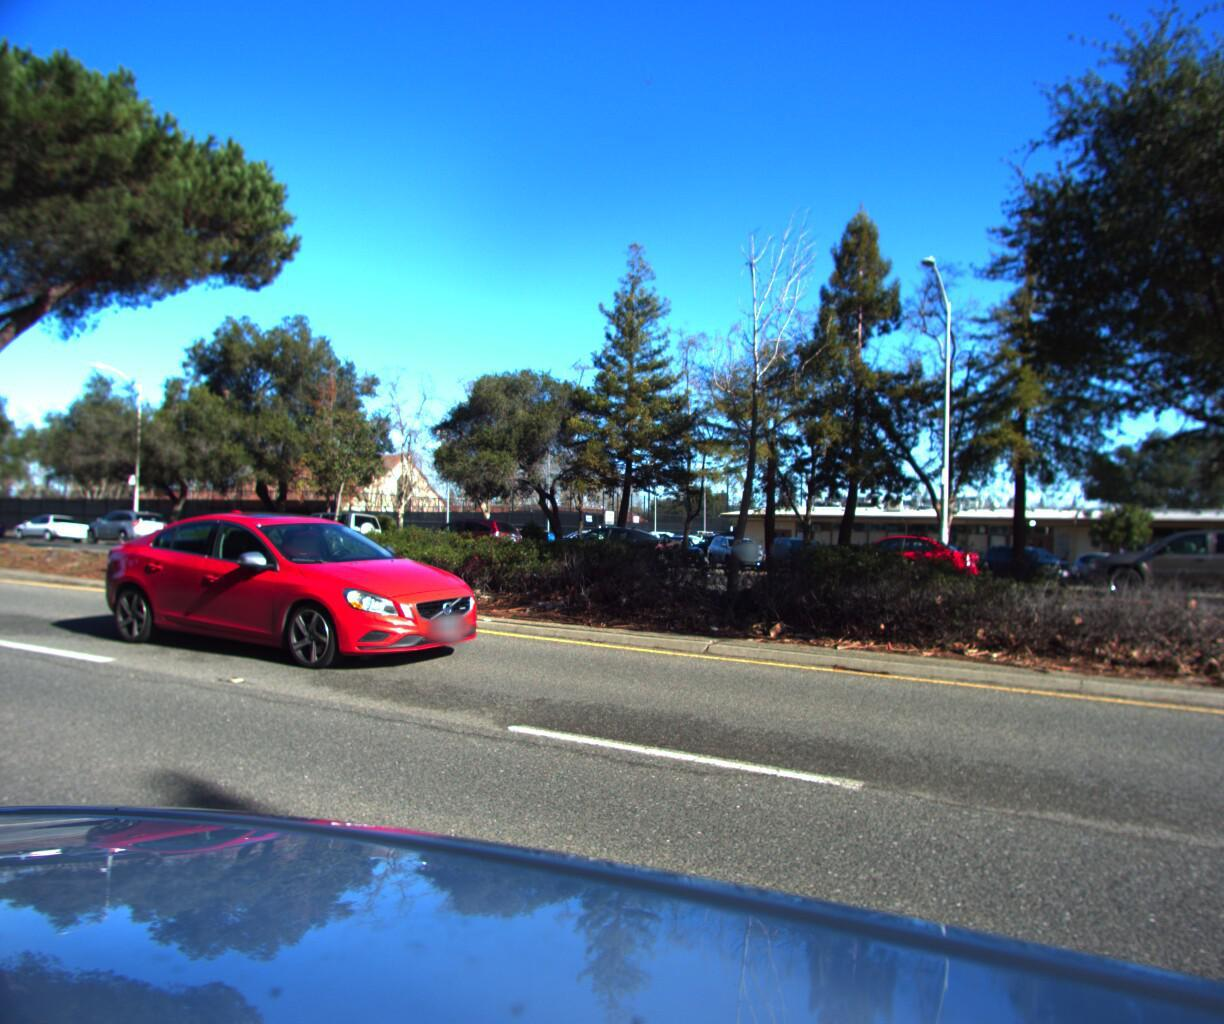car: (77, 504, 515, 674), (1072, 520, 1224, 605), (803, 529, 984, 591), (527, 524, 690, 579), (399, 517, 532, 569), (269, 511, 391, 564), (152, 518, 258, 557), (77, 513, 173, 553), (6, 516, 93, 549)
